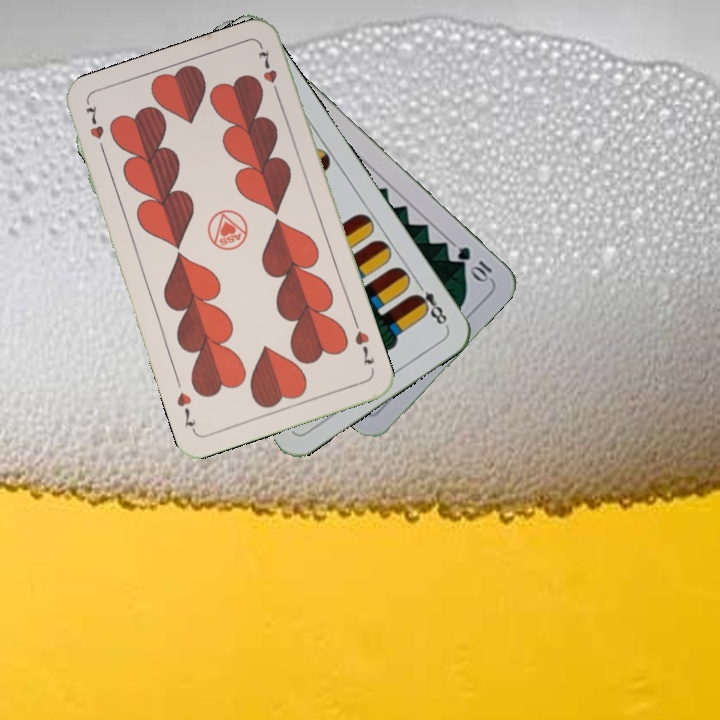E8: (409, 277, 450, 330)
G10: (453, 242, 495, 285)
H7: (82, 101, 108, 158), (350, 316, 377, 368)
